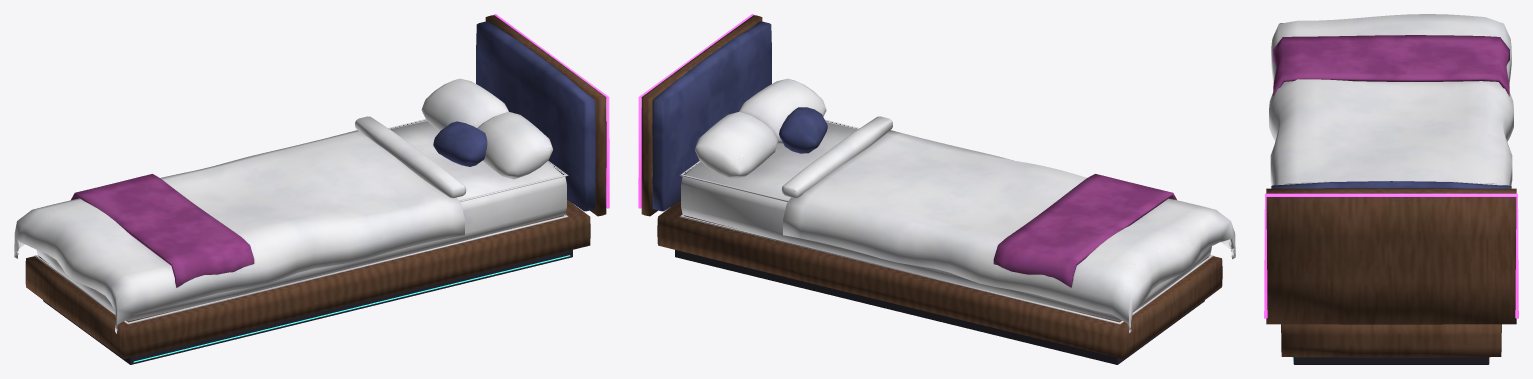
File: bed1.glb
3 renders of one model, left to right at view 1: azimuth 30°, elevation 25°; view 2: azimuth 150°, elevation 25°; view 3: azimuth 270°, elevation 25°, orthographic. The views are drawn at different scales.
Visible parts, largest first — view 1: body; view 2: body; view 3: body.
Boxes of the visible parts, x1,y1,x2,y2 form: body: (14, 14, 609, 364); body: (638, 14, 1235, 364); body: (1264, 14, 1518, 364).
Bounding box in the file's own units: 5.96 × 1.95 × 2.41.
3 materials, 1 textured.
